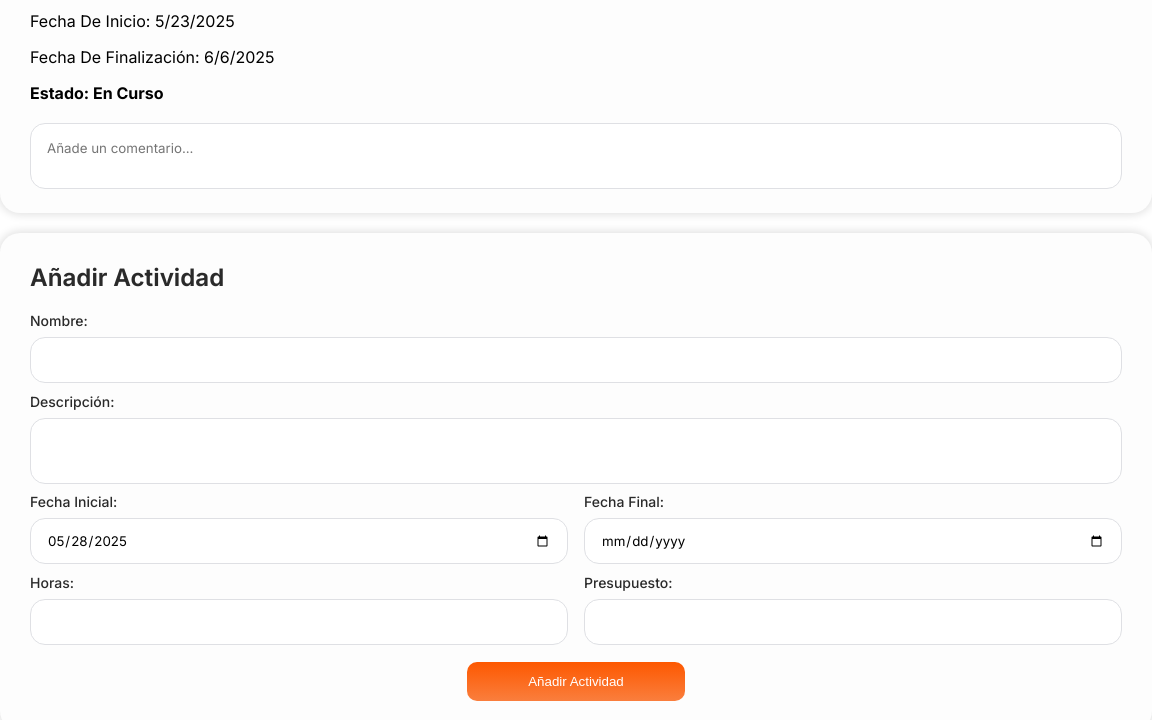
Test: MiPath - Añadir Actividad › debería agregar una actividad al enviar el formulario de añadir actividad
(page scrolled)
Check: the heading "Añadir Actividad" is shown, box [30,263,224,292]
# Simular entrada de datos
Type "Nueva Actividad" into the field labelled "Nombre:" at [576, 360], box [30,337,1122,383]
Type "Descripción de prueba" into the text box labelled "Descripción:" at [576, 451], box [30,418,1122,484]
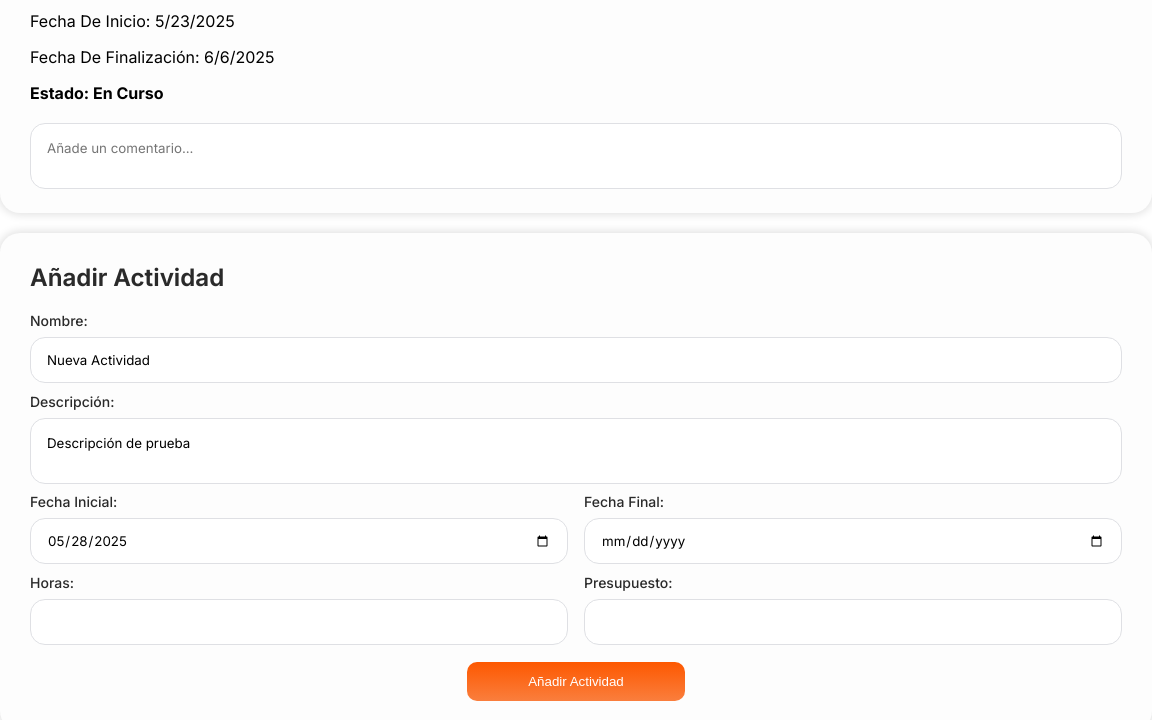
Type "2025-03-19" into the date field labelled "Fecha Inicial:" at [299, 541], box [30,518,568,564]
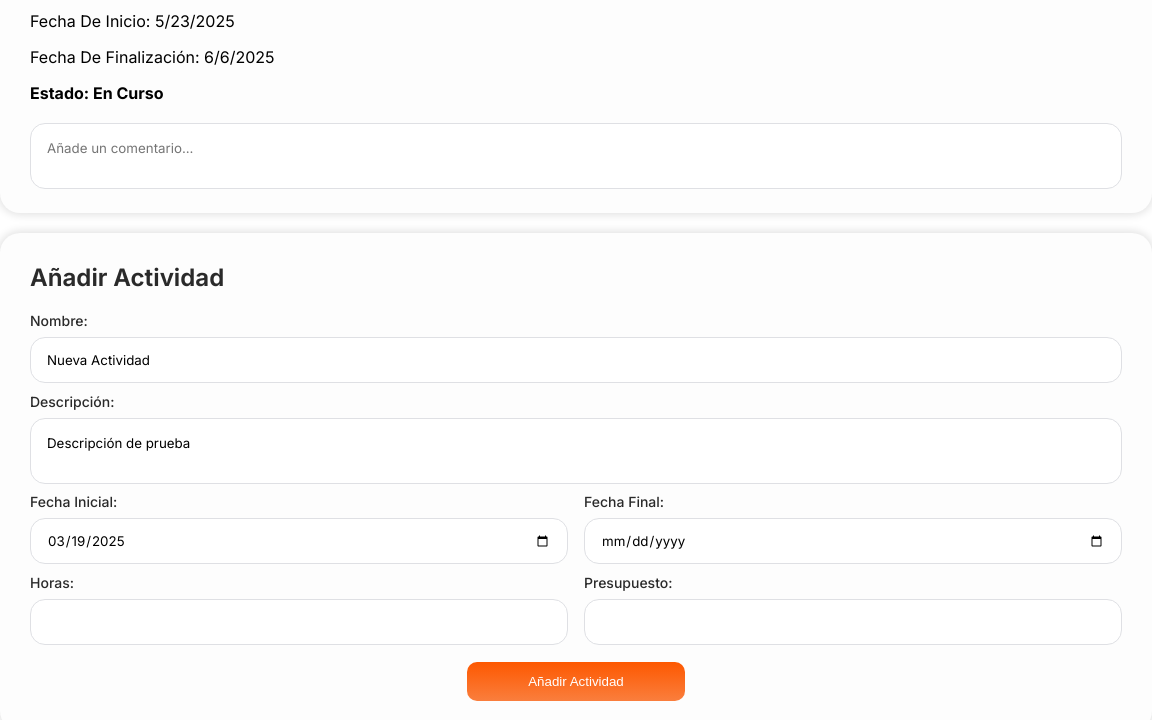
Type "2025-03-20" into the date field labelled "Fecha Final:" at [853, 541], box [584,518,1122,564]
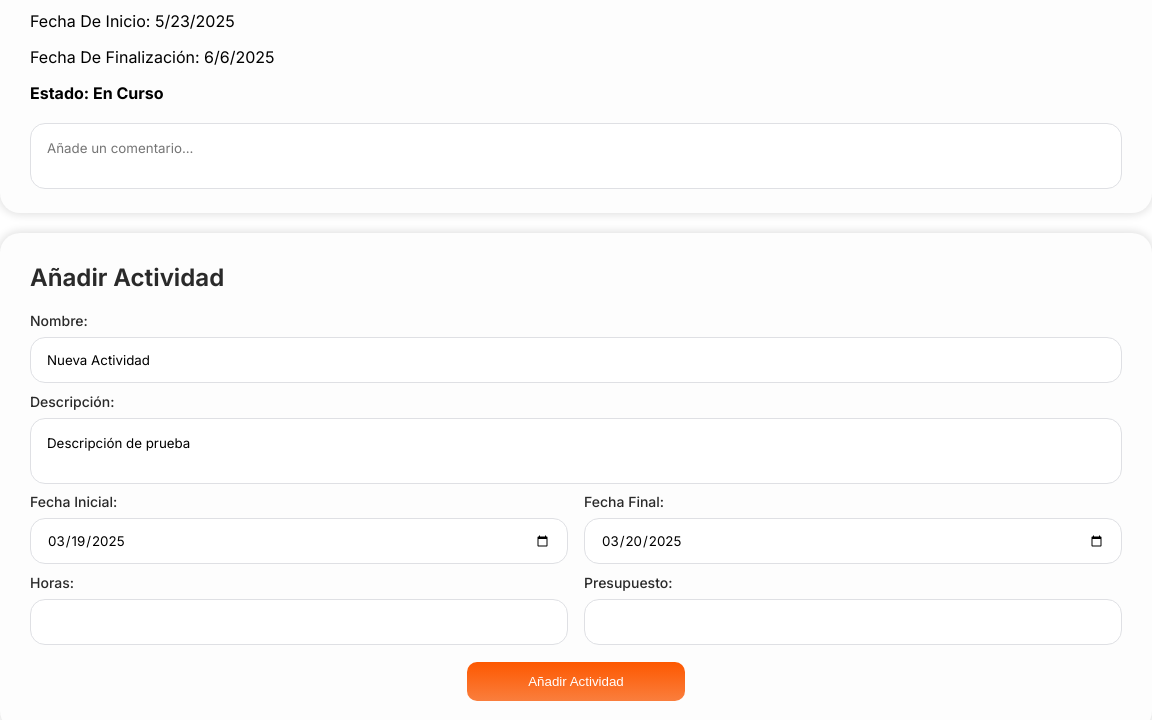
Type "8" into the number field labelled "Horas:" at [299, 622], box [30,599,568,645]
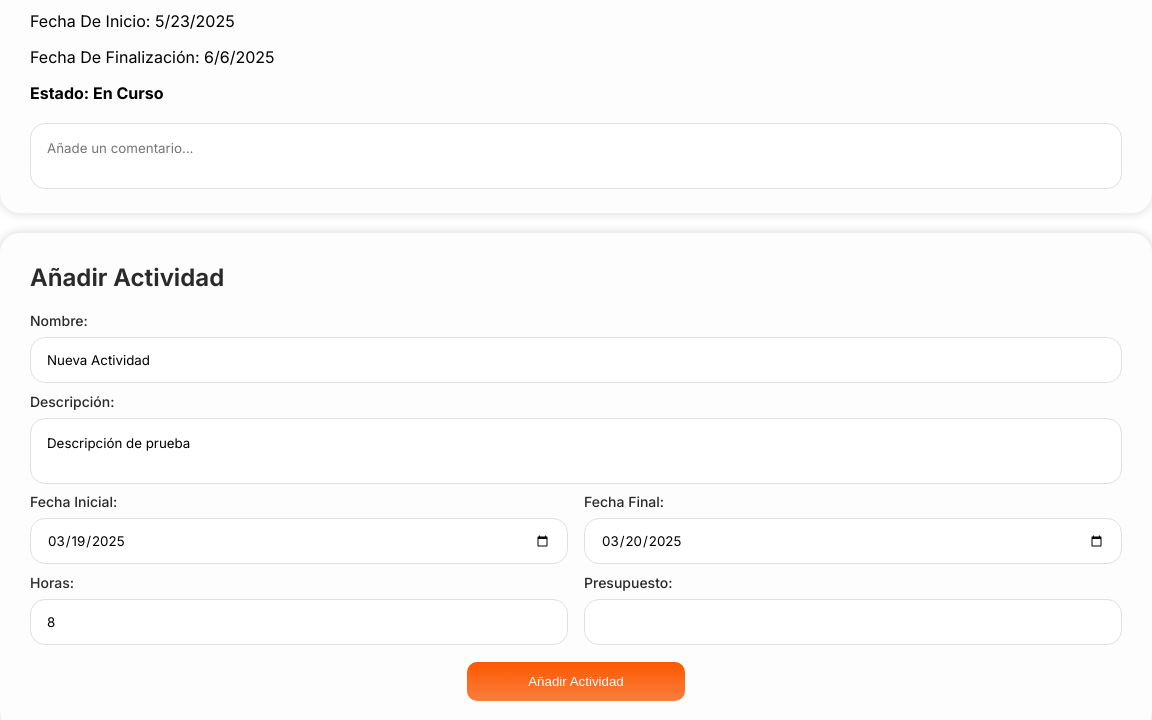
Type "100" into the number field labelled "Presupuesto:" at [853, 622], box [584,599,1122,645]
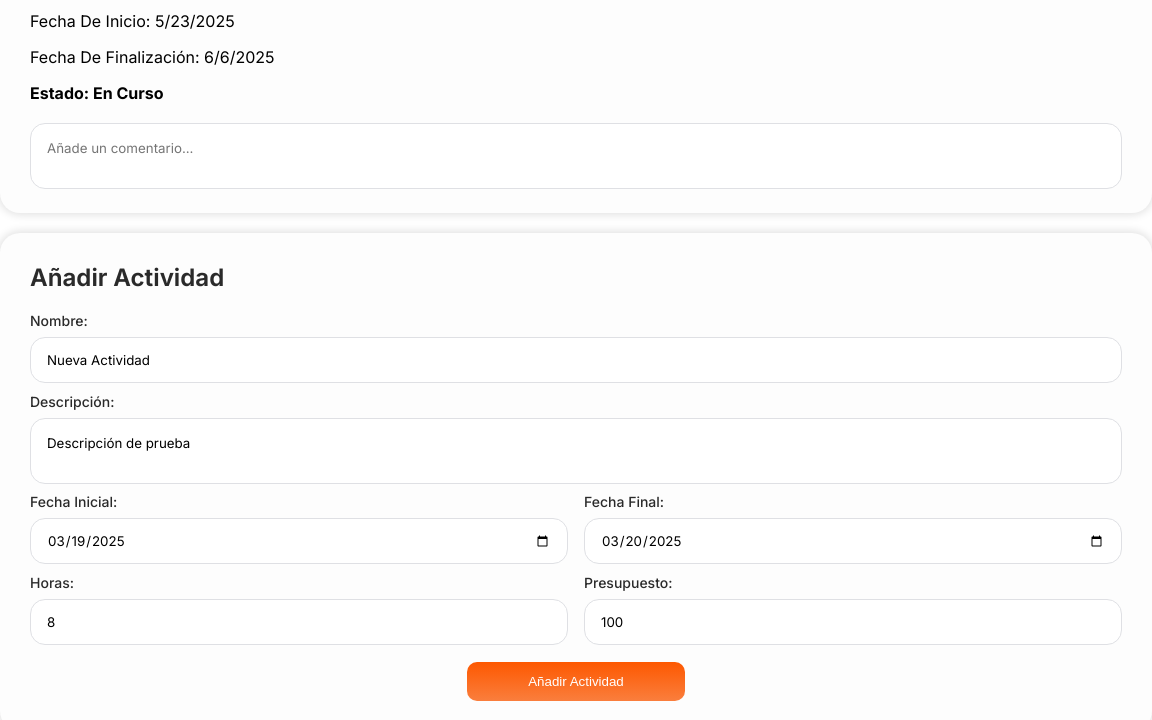
# Enviar el formulario
Submit the form from the button "Añadir Actividad", box [467,662,685,701]
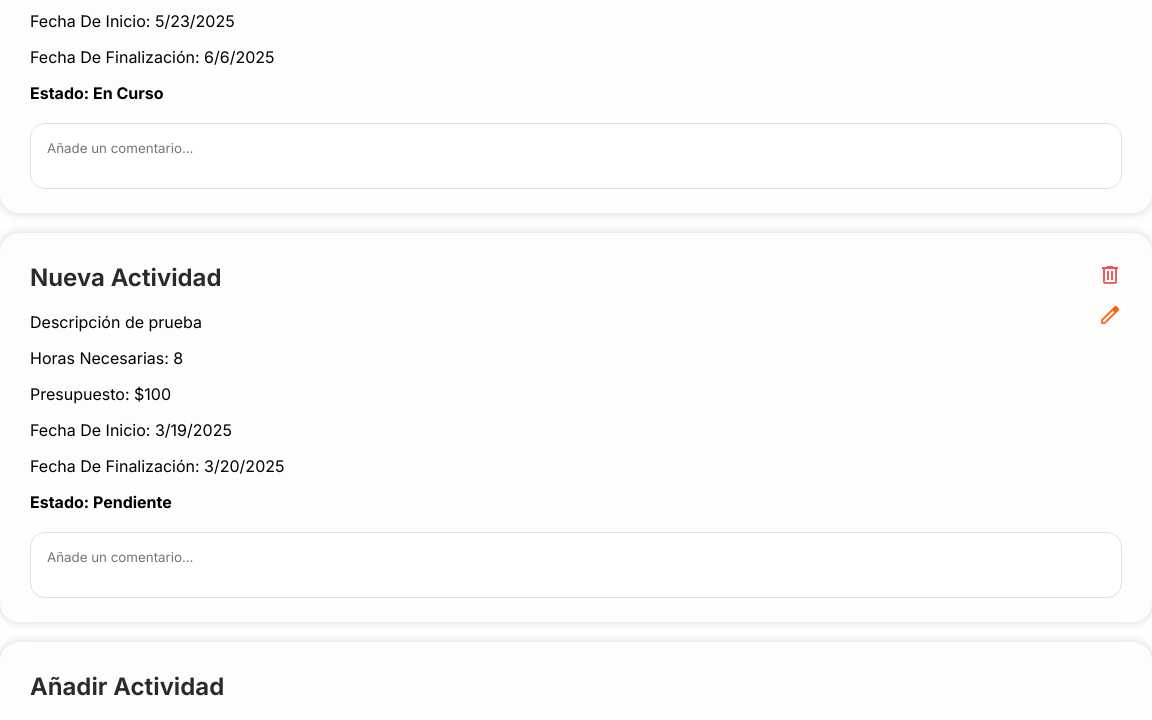
Check: the heading "Nueva Actividad" is shown, box [30,263,222,292]
Check: the text "Descripción de prueba" is shown, box [30,312,202,332]
